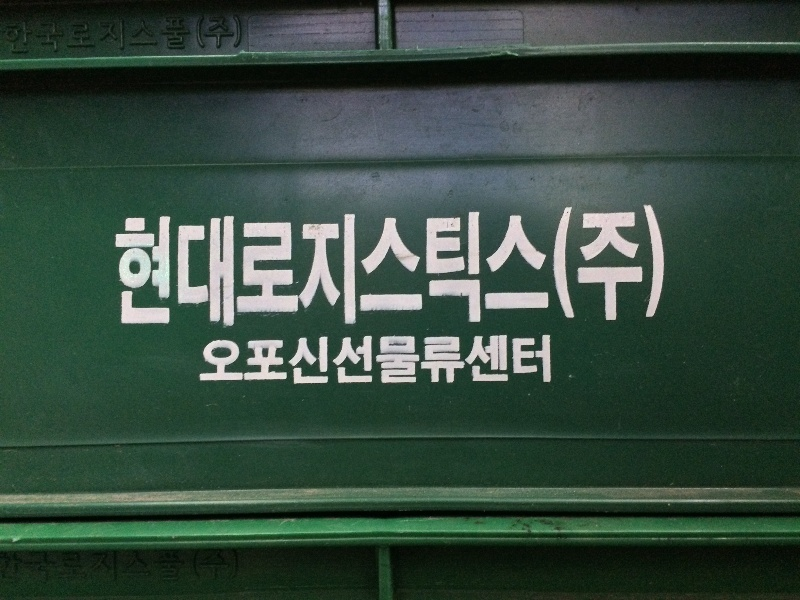text: (129, 205, 144, 331), (145, 205, 160, 331), (161, 205, 176, 331), (177, 205, 192, 331), (193, 205, 208, 331), (209, 205, 224, 331), (225, 205, 240, 331), (241, 205, 256, 331), (257, 205, 272, 331), (273, 205, 288, 331), (289, 205, 304, 331), (305, 205, 320, 331), (321, 205, 336, 331), (337, 205, 352, 331), (353, 205, 368, 331), (369, 205, 384, 331), (385, 205, 400, 331), (401, 205, 416, 331), (417, 205, 432, 331), (433, 205, 448, 331), (449, 205, 464, 331), (465, 205, 480, 331), (481, 205, 496, 331), (497, 205, 512, 331), (513, 205, 528, 331), (529, 205, 544, 331), (545, 205, 560, 331), (561, 205, 576, 331), (577, 205, 592, 331), (593, 205, 608, 331), (609, 205, 624, 331), (625, 205, 640, 331), (641, 205, 656, 331), (115, 205, 128, 331), (657, 205, 668, 331), (209, 334, 224, 386), (225, 334, 240, 386), (241, 334, 256, 386), (257, 334, 272, 386), (273, 334, 288, 386), (289, 334, 304, 386), (305, 334, 320, 386), (321, 334, 336, 386), (337, 334, 352, 386), (353, 334, 368, 386), (369, 334, 384, 386), (385, 334, 400, 386), (401, 334, 416, 386), (417, 334, 432, 386), (433, 334, 448, 386), (449, 334, 464, 386), (465, 334, 480, 386), (481, 334, 496, 386), (497, 334, 512, 386), (513, 334, 528, 386), (529, 334, 544, 386), (17, 16, 32, 55), (33, 16, 48, 55), (49, 16, 64, 55), (65, 16, 80, 55), (81, 16, 96, 55), (97, 16, 112, 55), (113, 16, 128, 55), (129, 16, 144, 55), (145, 16, 160, 55), (161, 16, 176, 55), (177, 16, 192, 55), (193, 16, 208, 55), (209, 16, 224, 55), (225, 16, 240, 55), (5, 16, 16, 55), (545, 334, 552, 386), (204, 334, 208, 386), (241, 16, 242, 55)
